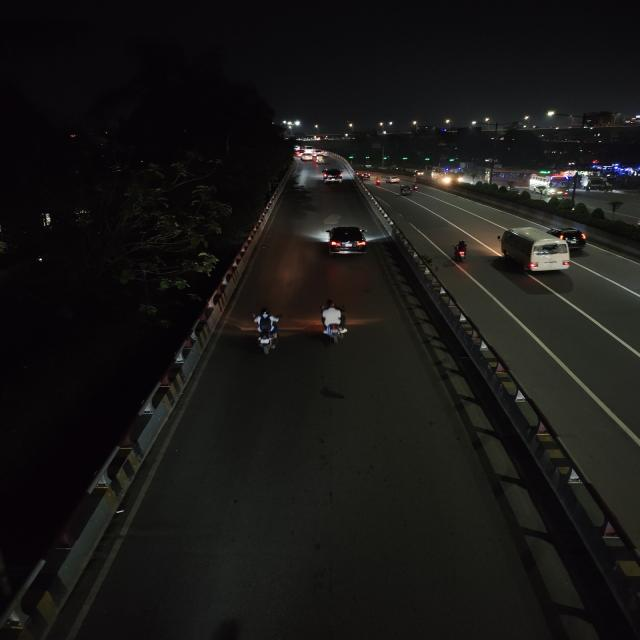bus: (500, 228, 571, 278), (528, 174, 573, 199), (429, 166, 466, 185)
car: (319, 221, 372, 262), (551, 223, 593, 249), (321, 165, 345, 186), (299, 152, 315, 162), (360, 172, 372, 182), (386, 176, 402, 183)
cng: (398, 184, 413, 198), (315, 153, 327, 166), (414, 169, 425, 177)
motorcycle: (316, 298, 354, 347), (245, 307, 283, 355), (444, 238, 480, 268), (373, 177, 383, 187), (412, 182, 420, 190)
